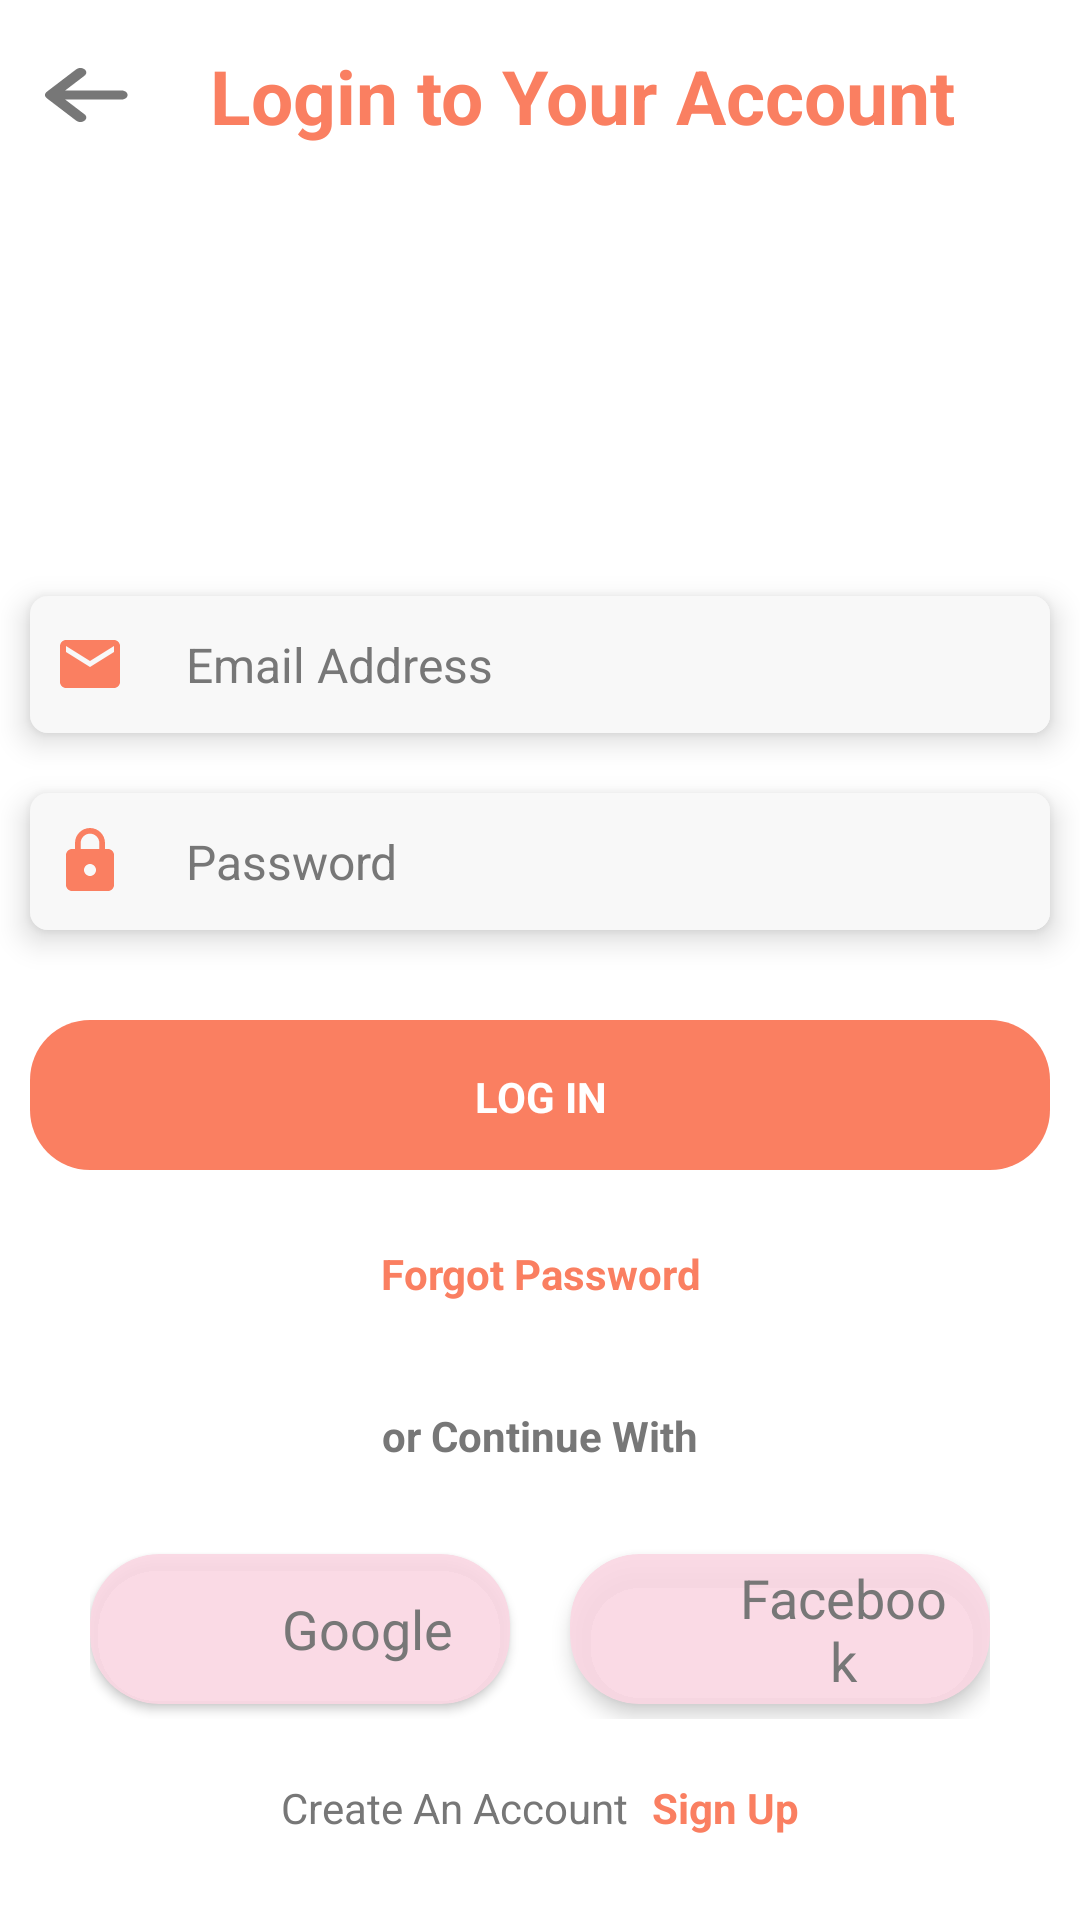

Where to tap for icons on this 1080×1920 app screen, as (x=x, y=y):
lock: (x=90, y=859)
